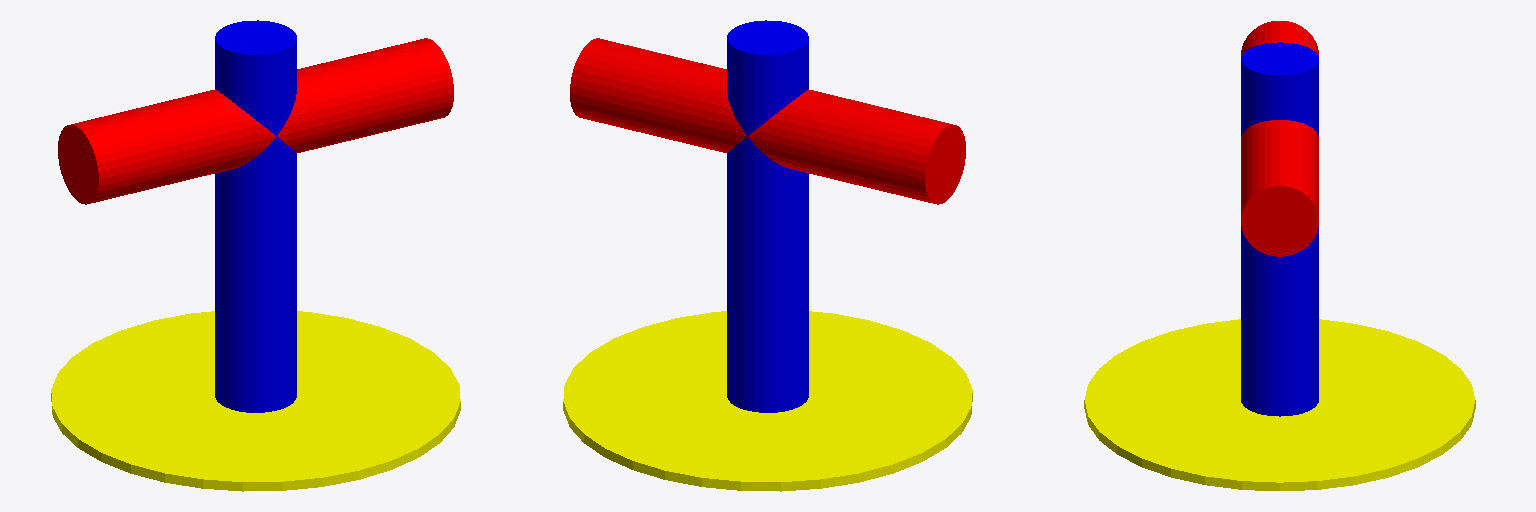
robot.urdf — pan_tilt:
<?xml version="1.0"?>
<robot name="pan_tilt">

  <link name="dummy"/>

  <joint name="dummy_joint" type="fixed">
    <parent link="dummy"/>
    <child link="base_link"/>
  </joint>

  <link name="base_link">
    <visual>
      <geometry>
        <cylinder length="0.01" radius="0.2"/>
      </geometry>
      <origin rpy="0 0 0" xyz="0 0 0"/>
      <material name="yellow">
        <color rgba="1 1 0 1"/>
      </material>
    </visual>
    <collision>
      <geometry>
        <cylinder length="0.03" radius="0.2"/>
      </geometry>
      <origin xyz="0 0 0" rpy="0 0 0"/>
    </collision>
    <inertial>
      <mass value="1"/>
      <inertia ixx="1.0" ixy="0.0" ixz="0.0" iyy="1.0" iyz="0.0" izz="1.0"/>
    </inertial>
  </link>

  <joint name="pan_joint" type="revolute">
    <parent link="base_link"/>
    <child link="pan_link"/>
    <origin xyz="0 0 0.1"/>
    <axis xyz="0 0 1"/>
    <limit effort="300" velocity="0.1" lower="-3.14" upper="3.14"/>
    <dynamics damping="50" friction="1"/>
  </joint>

  <link name="pan_link">
    <visual>
      <geometry>
        <cylinder length="0.4" radius="0.04"/>
      </geometry>
      <origin rpy="0 0 0" xyz="0 0 0.09"/>
      <material name="red">
        <color rgba="0 0 1 1"/>
      </material>
    </visual>
    <collision>
      <geometry>
        <cylinder length="0.04" radius="0.06"/>
      </geometry>
      <origin rpy="0 0 0" xyz="0 0 0.09"/>
    </collision>
    <inertial>
      <mass value="1"/>
      <inertia ixx="1.0" ixy="0.0" ixz="0.0" iyy="1.0" iyz="0.0" izz="1.0"/>
    </inertial>
  </link>

  <joint name="tilt_joint" type="revolute">
    <parent link="pan_link"/>
    <child link="tilt_link"/>
    <origin xyz="0 0 0.2"/>
    <axis xyz="0 1 0"/>
    <limit effort="300" velocity="0.1" lower="-4.64" upper="-1.5"/>
    <dynamics damping="50" friction="1"/>
  </joint>

  <link name="tilt_link">
    <visual>
      <geometry>
	       <cylinder length="0.4" radius="0.04"/>
      </geometry>
      <origin rpy="0 1.5 0" xyz="0 0 0"/>
      <material name="green">
        <color rgba="1 0 0 1"/>
      </material>
    </visual>
    <collision>
      <geometry>
	       <cylinder length="0.4" radius="0.06"/>
      </geometry>
      <origin rpy="0 1.5 0" xyz="0 0 0"/>
    </collision>
    <inertial>
      <mass value="1"/>
	    <inertia ixx="1.0" ixy="0.0" ixz="0.0" iyy="1.0" iyz="0.0" izz="1.0"/>
    </inertial>
  </link>

</robot>

--- Render facts (derived) ---
3 views of the same robot in one strip: view 1: azimuth 30°, elevation 25°; view 2: azimuth 150°, elevation 25°; view 3: azimuth 270°, elevation 25° (orthographic).
Robot: pan_tilt — 4 links, 3 joints (2 revolute, 1 fixed); root link dummy; default pose: joints at zero except 1 at the middle of their limits (tilt_joint = -3.07).
Links seen in each view (by area): view 1: base_link, tilt_link, pan_link; view 2: base_link, tilt_link, pan_link; view 3: base_link, pan_link, tilt_link.
Boxes of the visible links, x1=… form: base_link: x1=51, y1=311, x2=460, y2=491; tilt_link: x1=58, y1=38, x2=453, y2=204; pan_link: x1=215, y1=20, x2=296, y2=412; base_link: x1=563, y1=311, x2=972, y2=491; tilt_link: x1=570, y1=38, x2=965, y2=204; pan_link: x1=727, y1=20, x2=808, y2=412; base_link: x1=1084, y1=319, x2=1475, y2=490; pan_link: x1=1241, y1=42, x2=1318, y2=416; tilt_link: x1=1241, y1=21, x2=1318, y2=256.
Size in the robot's own frame: 0.4001 by 0.4 by 0.4 metres.
Geometry: primitives only (box / cylinder / sphere), no mesh files.
